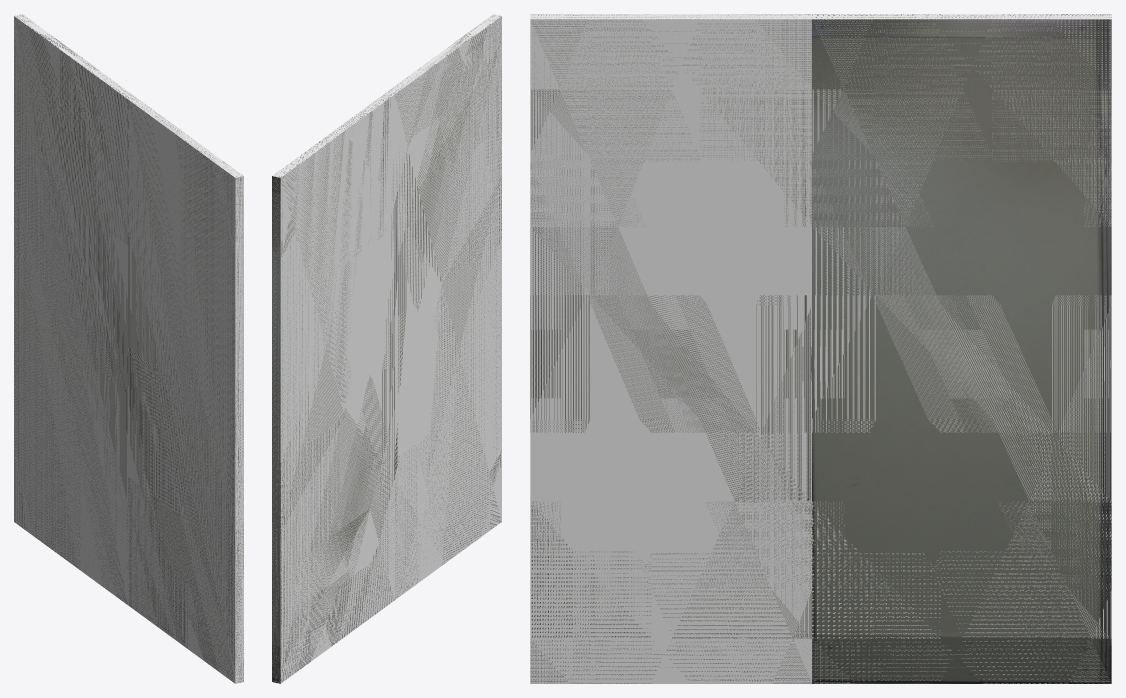
Rendered from SRS_divider2.dae.
3 views of the same model, side by side, from view 1: azimuth 30°, elevation 25°; view 2: azimuth 150°, elevation 25°; view 3: azimuth 270°, elevation 25° (orthographic). The views are drawn at different scales.
Parts seen in each view (by area): view 1: SketchUp; view 2: SketchUp (×2); view 3: SketchUp.
Boxes of the visible parts, x1=… form: SketchUp: x1=14, y1=14, x2=243, y2=683; SketchUp (×2): x1=272, y1=14, x2=501, y2=683; SketchUp: x1=530, y1=14, x2=1111, y2=683.
Bounding box in the file's own units: 0.0453 × 2.06 × 2.6.
Materials: 8 (6 with a texture image).
